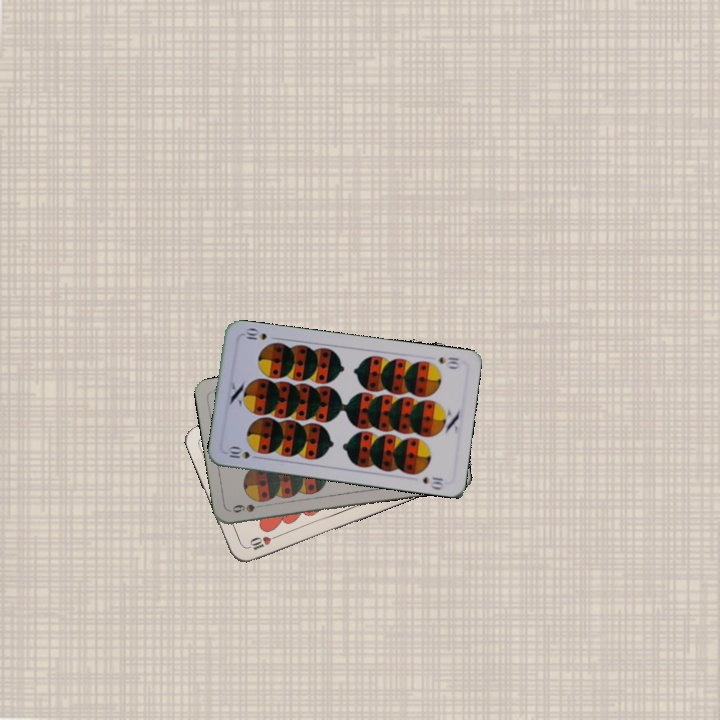H10: (242, 531, 282, 553)
S10: (224, 443, 253, 461), (435, 353, 462, 371)
S9: (228, 500, 268, 515)
